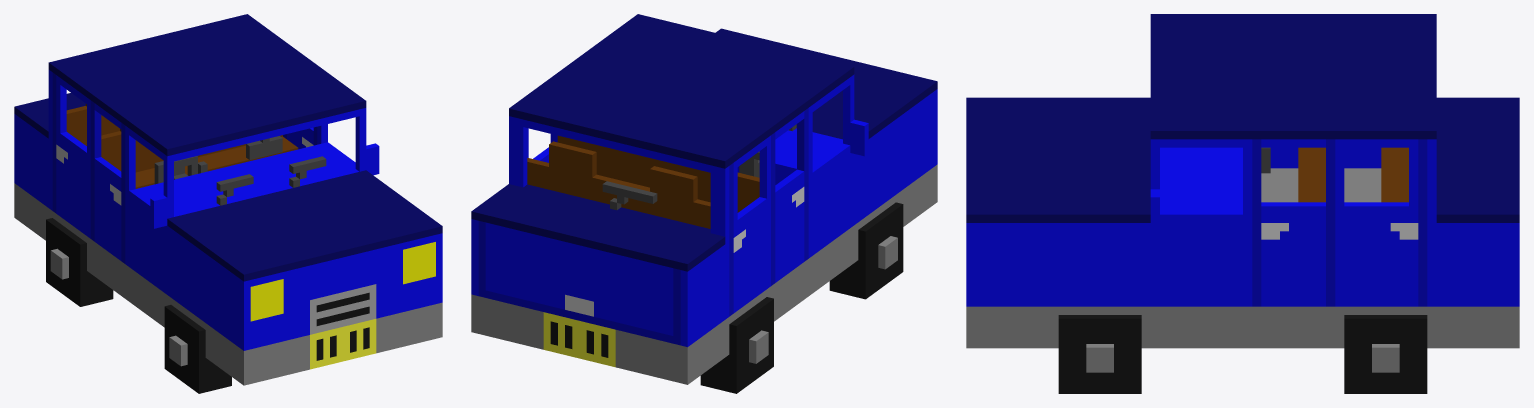
File: BlueCar.fbx
3 renders of one model, left to right at view 1: azimuth 30°, elevation 25°; view 2: azimuth 150°, elevation 25°; view 3: azimuth 270°, elevation 25°, orthographic. The views are drawn at different scales.
Parts seen in each view (by area): view 1: BlueCar; view 2: BlueCar; view 3: BlueCar.
Part boxes in pixels (x1,y1,x2,y2): BlueCar: (14,14,442,393); BlueCar: (471,14,937,393); BlueCar: (966,14,1519,393).
Bounding box in the file's own units: 3400 × 3100 × 6000.
Materials: 1 (1 with a texture image).
